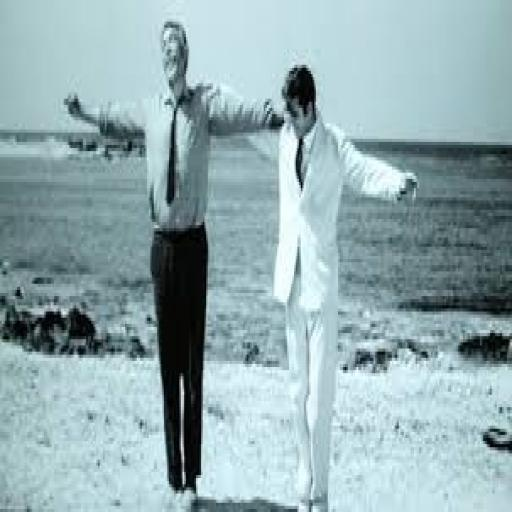dancing: (50, 30, 483, 425)
